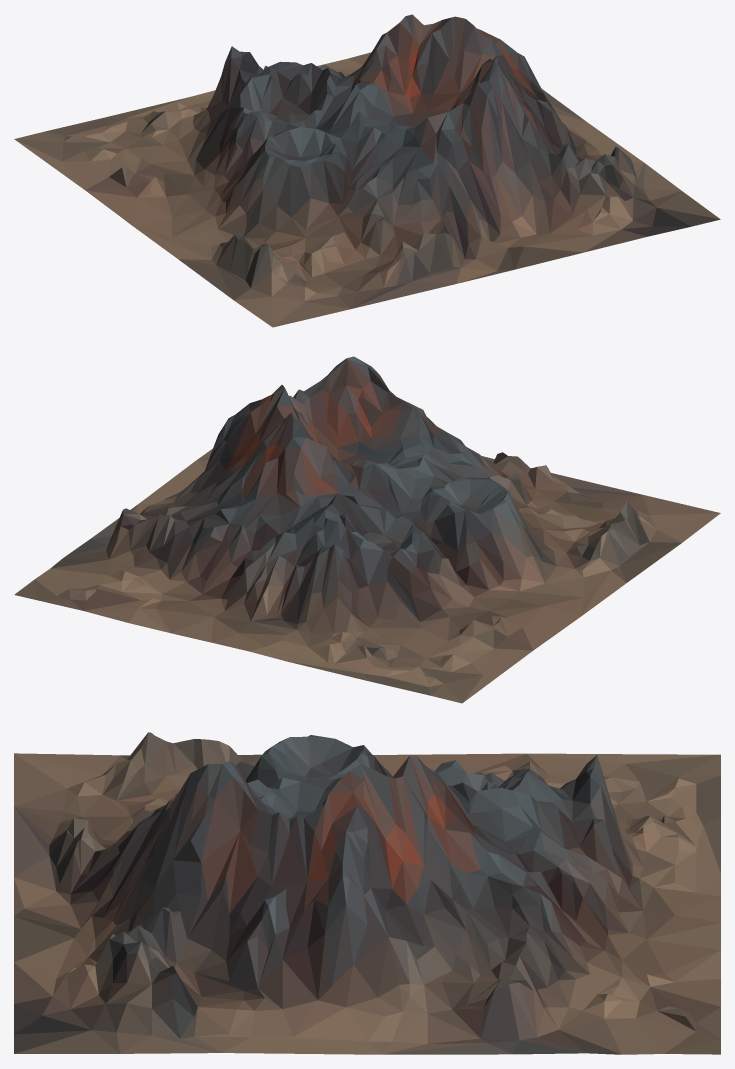
Rendered from Volcanic_A.fbx.
3 views of the same model, one above another, from view 1: azimuth 30°, elevation 25°; view 2: azimuth 150°, elevation 25°; view 3: azimuth 270°, elevation 25° (orthographic). The views are drawn at different scales.
Parts seen in each view (by area): view 1: Volcanic_A; view 2: Volcanic_A; view 3: Volcanic_A.
Part boxes in pixels (box(x1,y1,x2,y2)): Volcanic_A: box(14, 14, 720, 327); Volcanic_A: box(14, 356, 720, 703); Volcanic_A: box(14, 732, 720, 1054).
Size of the model in its own units: 10000 by 3085 by 10000.
